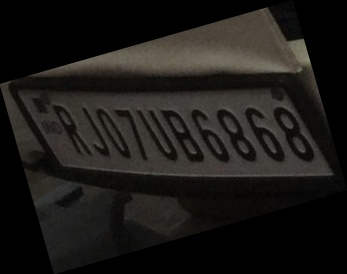character: (161, 106, 205, 164), (244, 103, 286, 163), (272, 104, 313, 164), (215, 105, 258, 162), (136, 107, 180, 162), (190, 106, 231, 164), (53, 102, 93, 156), (95, 106, 134, 159), (114, 106, 150, 161), (80, 104, 112, 157)
